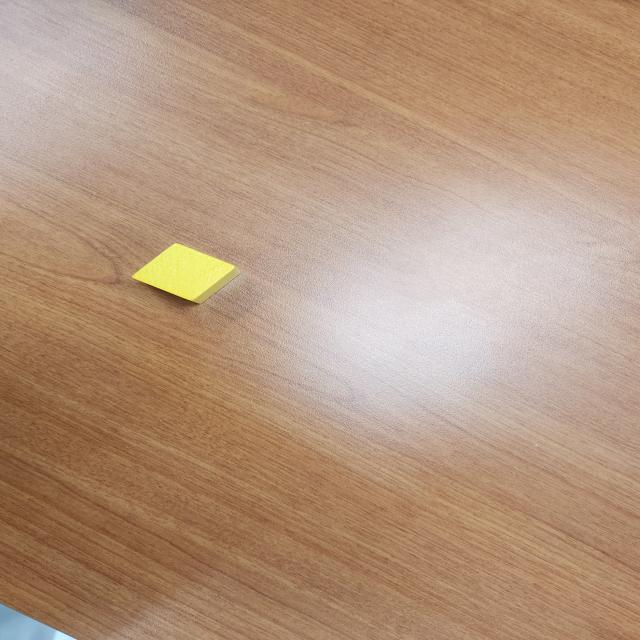yellow: (130, 243, 239, 304)
